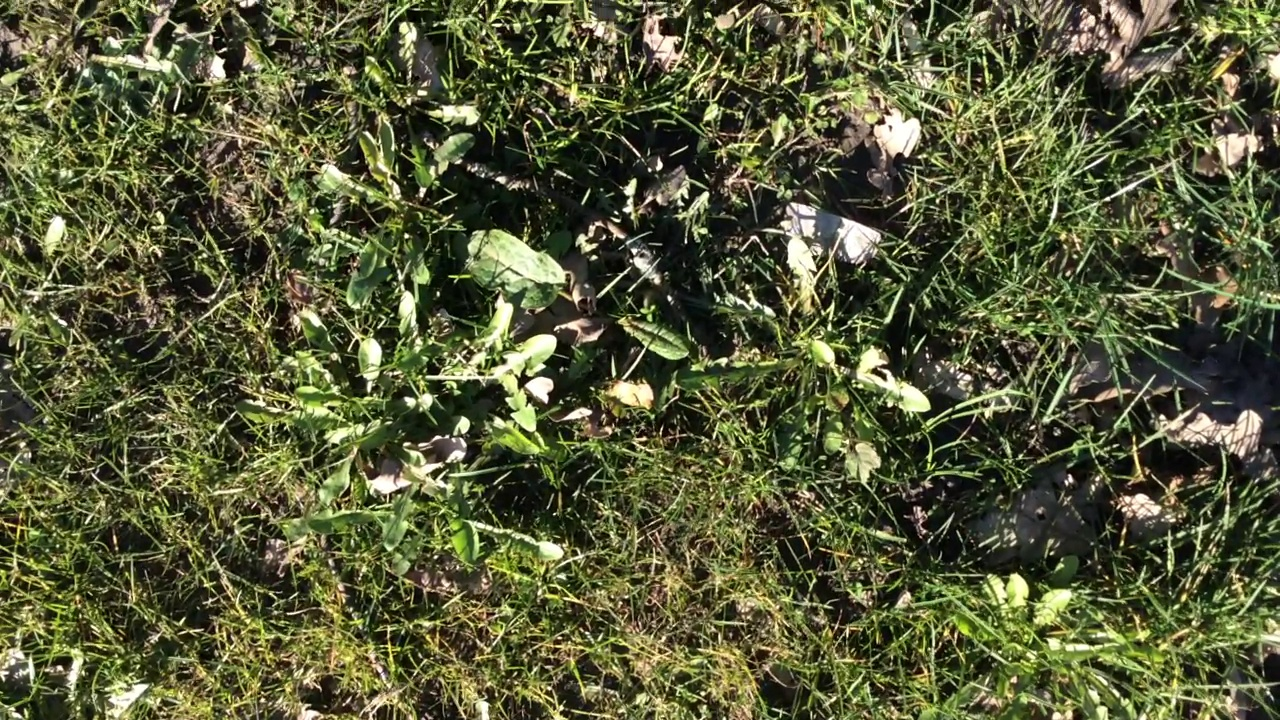rumex: (453, 230, 564, 311), (615, 316, 692, 361)
